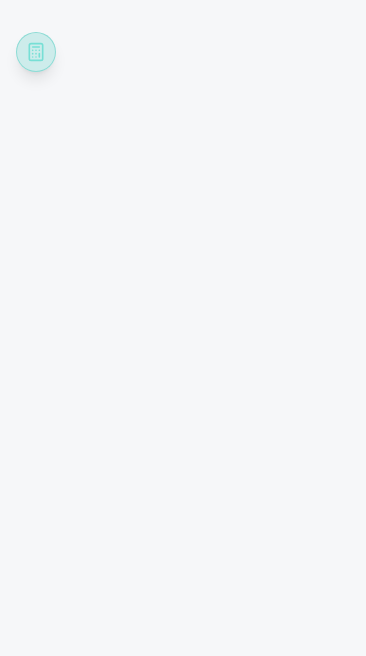
Test case: DoseCalculator › opens on toggle and computes a weight-based dose live
Click the button titled "Abrir Calculadora de Dose" at {"x": 36, "y": 52}, box [16,32,56,72]
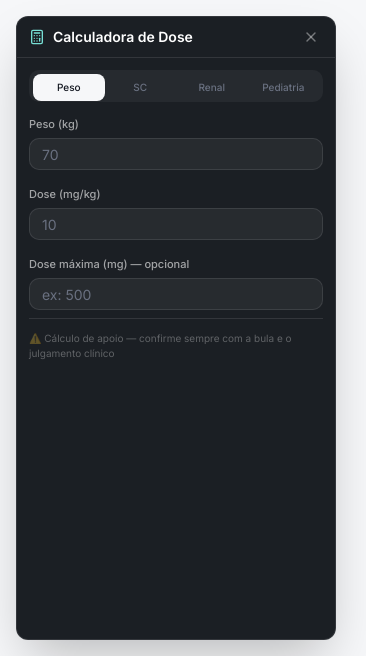
Result: the text "Calculadora de Dose" is shown at [53,27,193,47]
Type "10" into the number field labelled "Peso (kg)" at {"x": 176, "y": 154}, box [29,138,323,170]
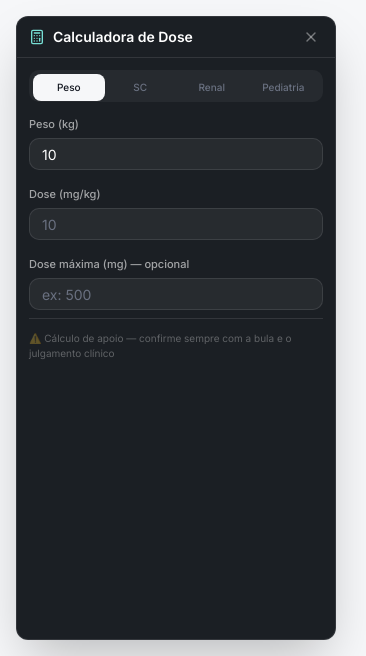
Type "5" into the number field labelled "Dose (mg/kg)" at {"x": 176, "y": 224}, box [29,208,323,240]
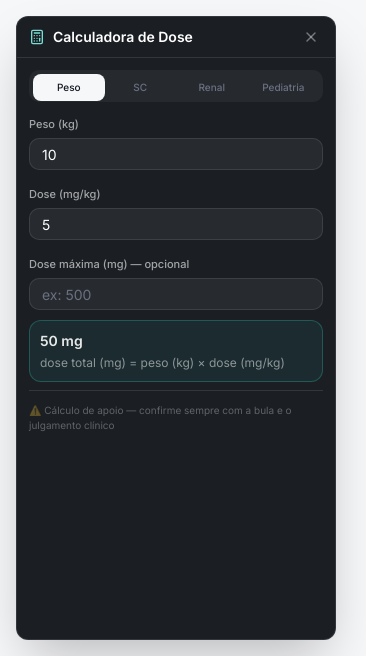
Result: the text "50 mg" is shown at [40,332,83,349]
